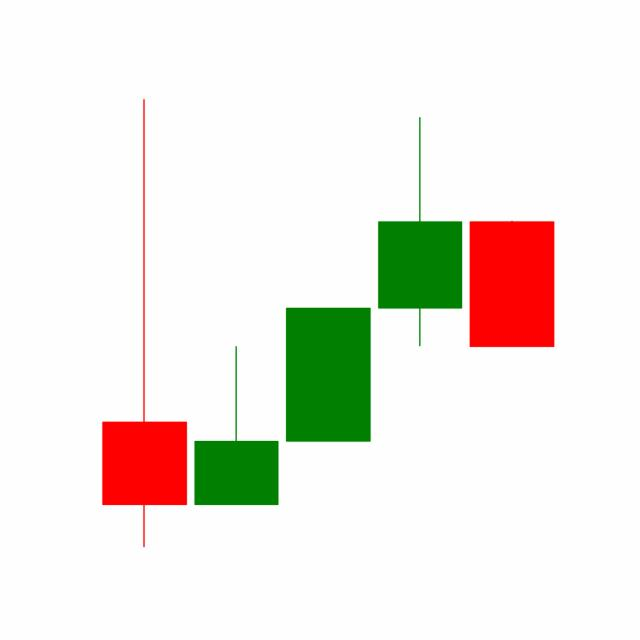Marubozu: (464, 219, 558, 348)
